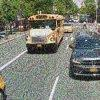buses: (25, 13, 64, 54)
